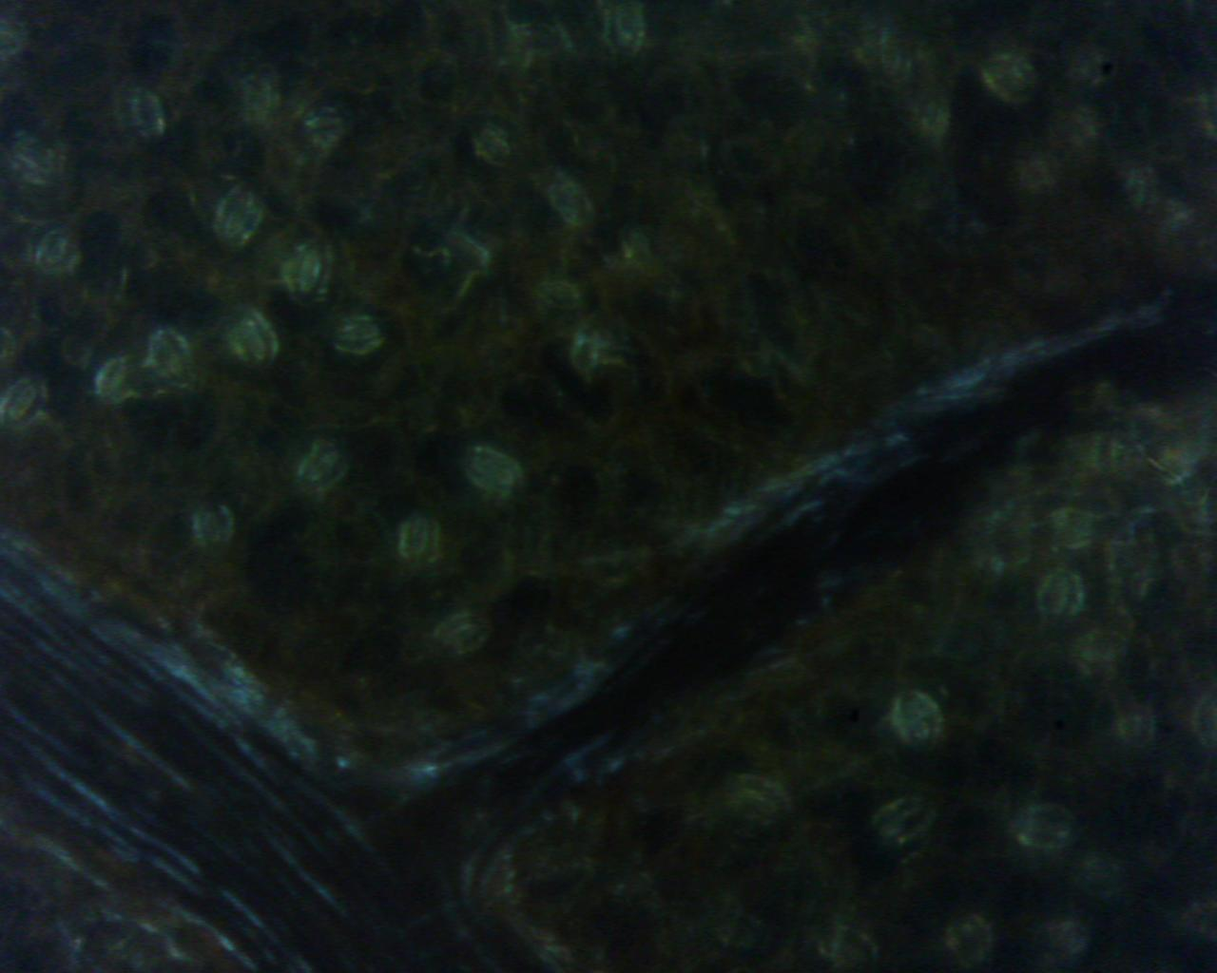stomata: (220, 183, 263, 252), (288, 241, 332, 305), (125, 85, 170, 145), (1016, 806, 1076, 850), (32, 223, 84, 271), (707, 916, 765, 958), (900, 696, 941, 750), (12, 141, 61, 185), (246, 69, 280, 132), (988, 58, 1036, 100), (240, 311, 275, 368), (951, 916, 990, 966), (337, 316, 387, 355), (1074, 632, 1126, 669), (1079, 861, 1129, 899), (155, 334, 190, 388), (400, 514, 436, 564), (1041, 571, 1077, 620), (307, 448, 344, 494), (876, 804, 929, 836), (738, 782, 785, 818), (472, 453, 518, 489), (438, 619, 489, 650), (198, 505, 233, 550), (610, 6, 642, 55), (8, 381, 41, 426), (1072, 49, 1114, 84), (841, 926, 873, 970), (556, 180, 587, 224), (1121, 706, 1155, 746), (478, 124, 511, 165), (628, 224, 654, 275), (103, 360, 137, 398), (1037, 924, 1082, 952), (517, 24, 562, 51), (306, 107, 347, 136), (1128, 169, 1156, 208), (536, 283, 577, 308), (920, 95, 949, 129)
